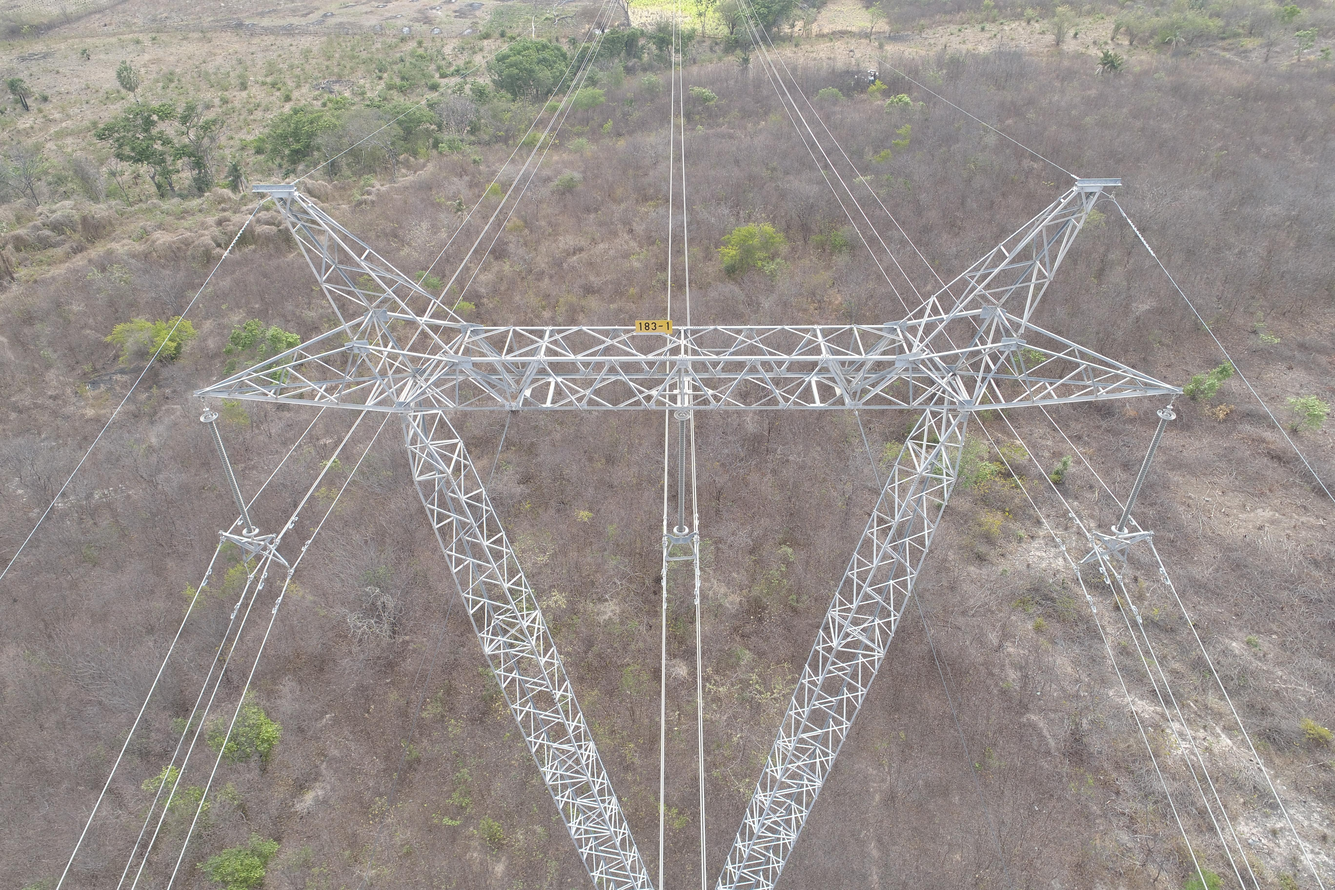power_tower: (192, 181, 1183, 890)
